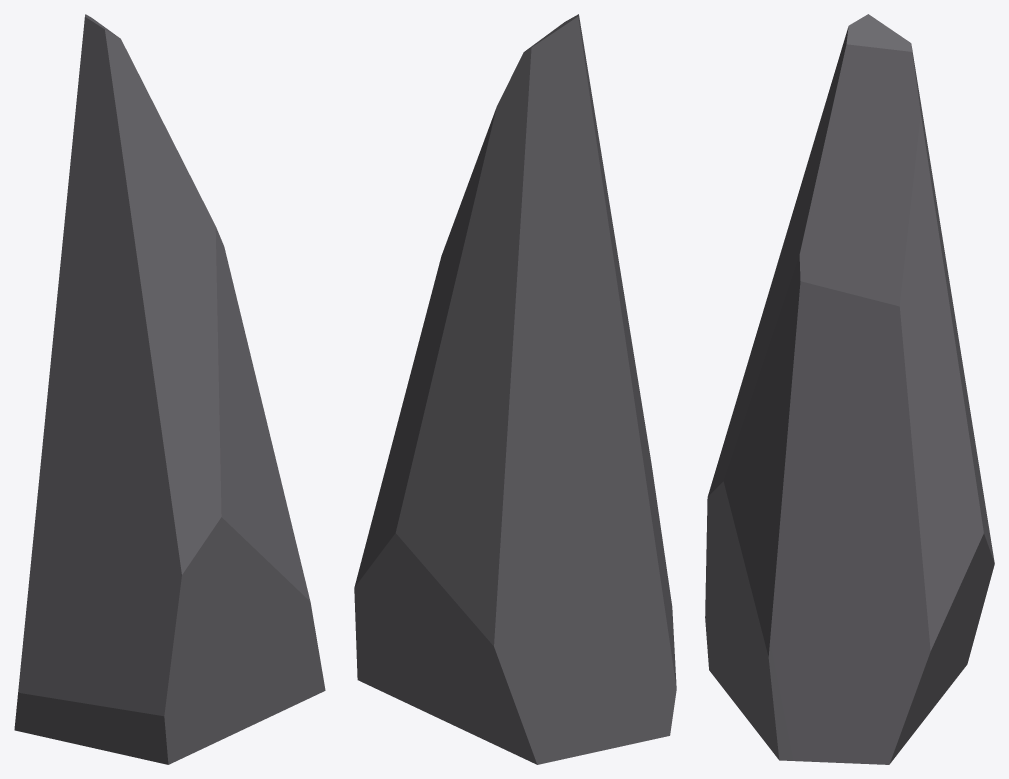
The model's file is Rock_Sharp_m_03.fbx.
The picture shows the model from 3 angles, left to right: view 1: azimuth 30°, elevation 25°; view 2: azimuth 150°, elevation 25°; view 3: azimuth 270°, elevation 25°; orthographic projection. The views are drawn at different scales.
Parts seen in each view (by area): view 1: Rock_Sharp_m_03; view 2: Rock_Sharp_m_03; view 3: Rock_Sharp_m_03.
Boxes of the visible parts, box(x1,y1,x2,y2) form: Rock_Sharp_m_03: box(14, 14, 325, 764); Rock_Sharp_m_03: box(354, 14, 676, 764); Rock_Sharp_m_03: box(705, 14, 994, 764).
Bounding box in the file's own units: 76.43 × 176 × 70.49.
